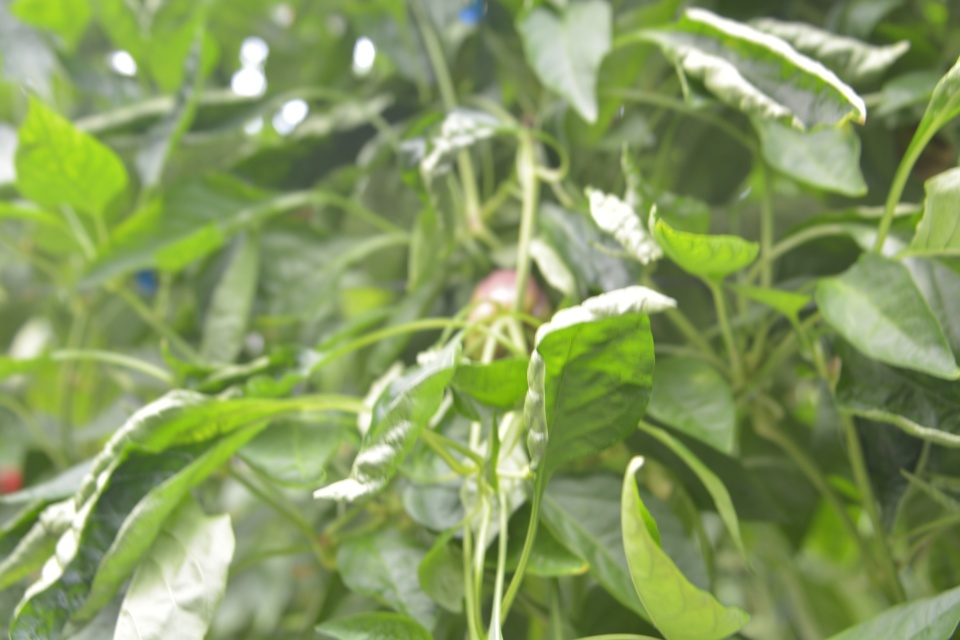fruit: (463, 265, 552, 361)
